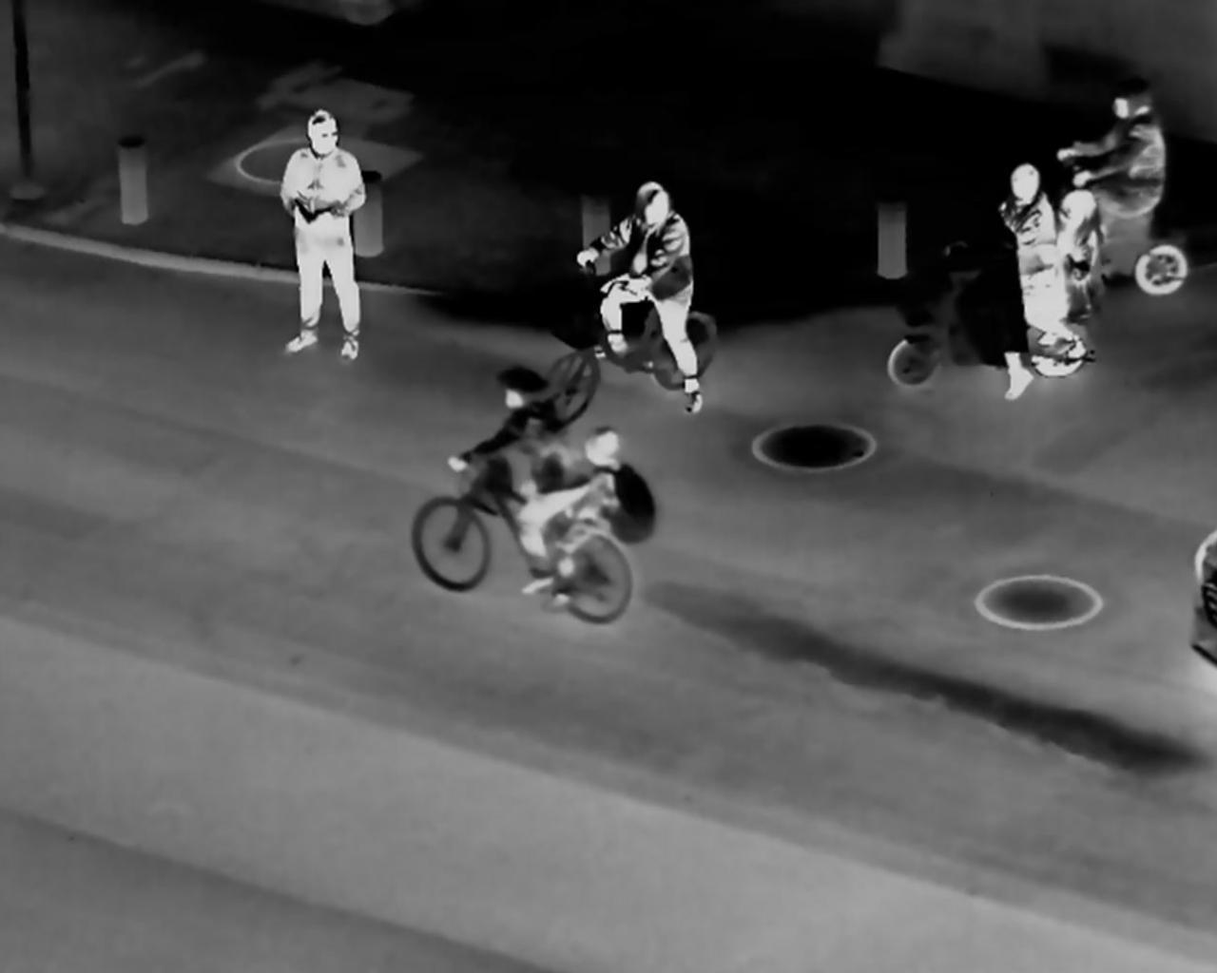person: (265, 103, 390, 366), (587, 177, 717, 416), (462, 363, 576, 594), (1059, 69, 1163, 230), (564, 420, 645, 569), (1000, 158, 1058, 358), (1039, 184, 1105, 355)
